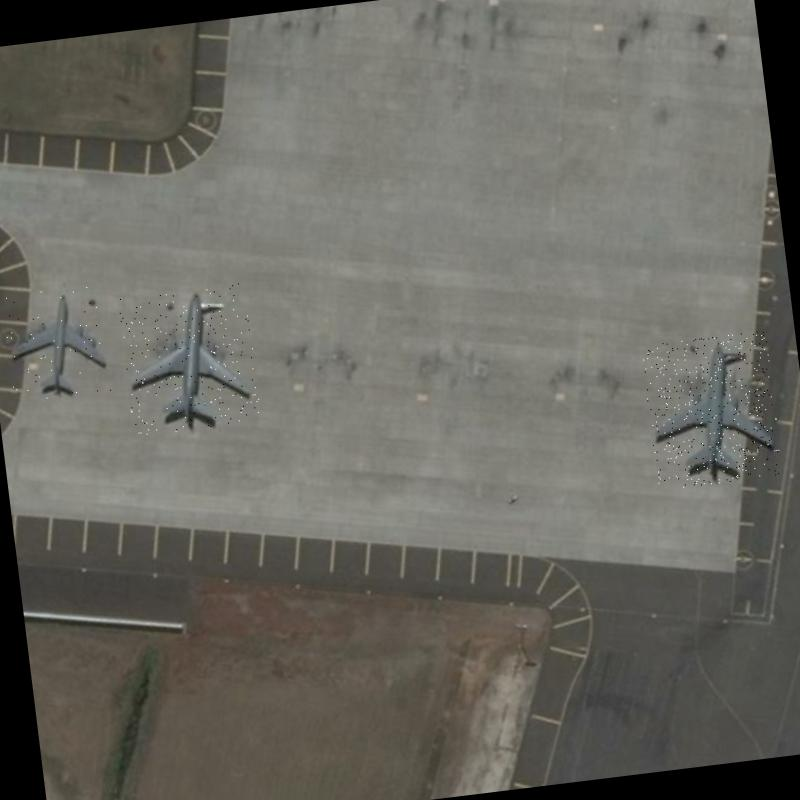A14: (2, 284, 114, 403)
A18: (640, 330, 783, 490), (116, 282, 262, 437)
